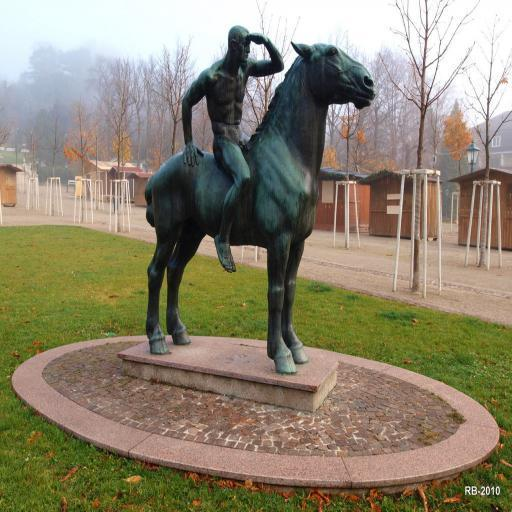horse: (146, 39, 378, 376)
